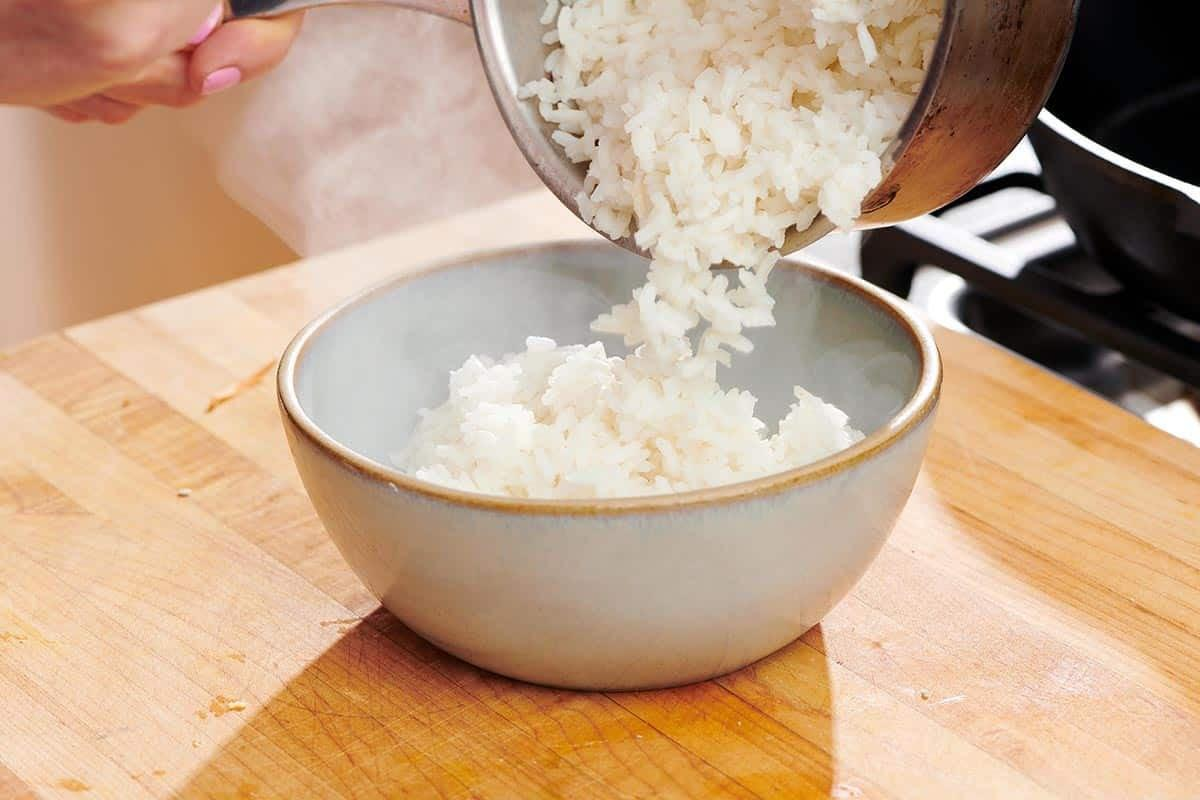rice: (379, 0, 942, 502)
